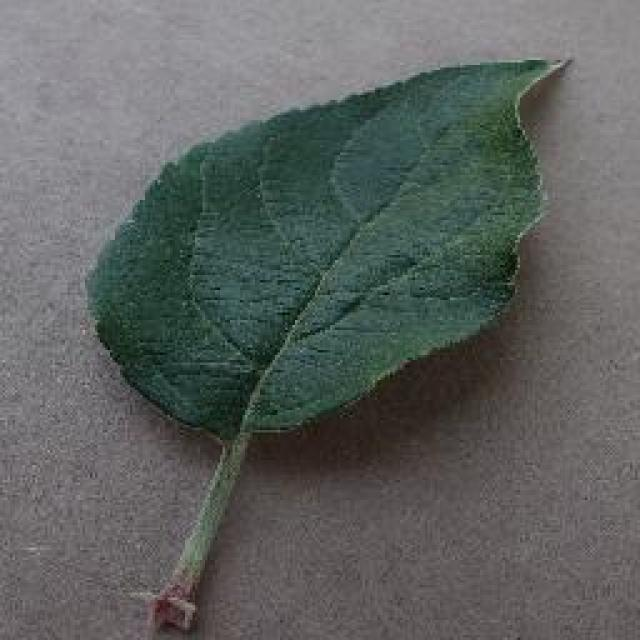apple healthy: (80, 50, 572, 638)
